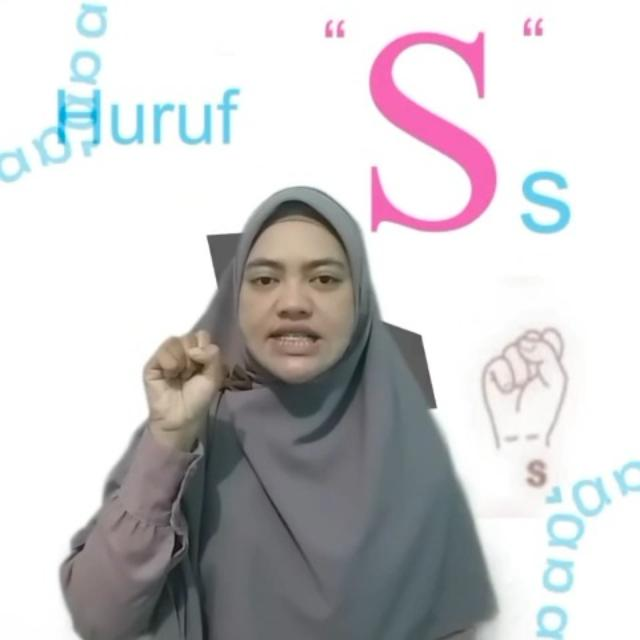S: (126, 323, 228, 437)
